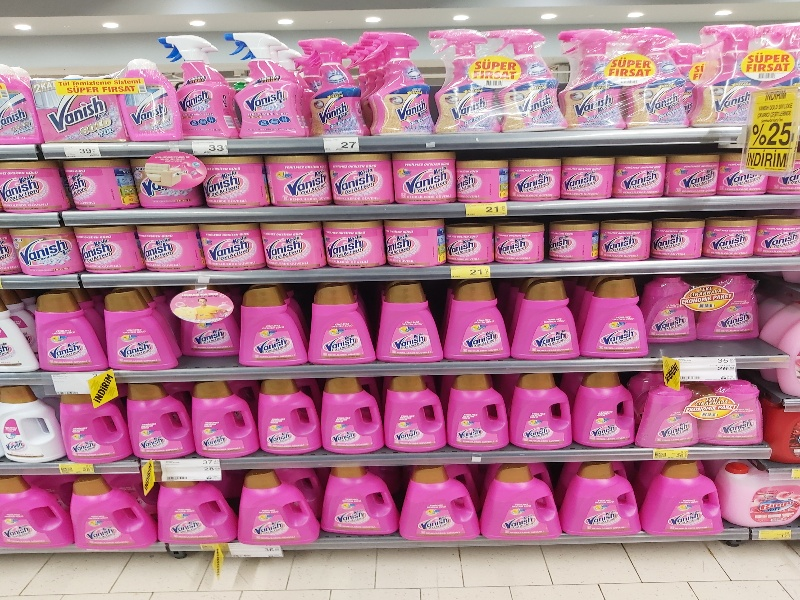urun1: (162, 26, 232, 139), (360, 23, 430, 136), (426, 19, 496, 132), (486, 18, 556, 131), (606, 16, 676, 129), (31, 59, 121, 143), (32, 286, 109, 374), (103, 285, 180, 373), (67, 472, 152, 548), (151, 475, 236, 551), (319, 463, 404, 539), (477, 465, 562, 541), (557, 463, 642, 539), (642, 458, 727, 534), (59, 383, 133, 467), (235, 286, 309, 368), (439, 282, 513, 364), (127, 384, 193, 462), (253, 376, 319, 454), (316, 379, 382, 457), (509, 374, 575, 452), (635, 377, 701, 450), (116, 58, 174, 140), (62, 155, 137, 215), (701, 274, 759, 344), (198, 151, 270, 207), (260, 151, 332, 207), (327, 151, 399, 207), (389, 148, 461, 204), (1, 154, 66, 214), (78, 221, 141, 275), (136, 219, 203, 269), (259, 218, 326, 268), (506, 160, 564, 205), (560, 158, 618, 203), (667, 152, 725, 197), (597, 219, 653, 261), (651, 217, 707, 259), (704, 215, 760, 257), (448, 223, 497, 266)
urun2: (228, 22, 298, 135), (295, 25, 365, 138), (549, 16, 619, 129), (691, 14, 761, 127), (233, 471, 319, 547), (396, 463, 481, 539), (304, 284, 378, 366), (374, 285, 448, 367), (507, 280, 581, 362), (581, 282, 655, 364), (724, 452, 800, 531), (1, 473, 68, 553), (1, 381, 64, 465), (170, 286, 239, 361), (189, 379, 255, 457), (379, 377, 445, 455), (441, 373, 507, 451), (571, 370, 637, 448), (698, 372, 764, 445), (757, 17, 800, 121), (645, 274, 703, 344), (133, 152, 205, 208), (11, 223, 82, 279), (197, 220, 264, 270), (319, 217, 386, 267), (381, 221, 448, 271), (454, 159, 512, 204), (611, 156, 669, 201), (720, 155, 778, 193), (494, 223, 546, 262), (546, 219, 598, 258), (757, 212, 800, 258)
